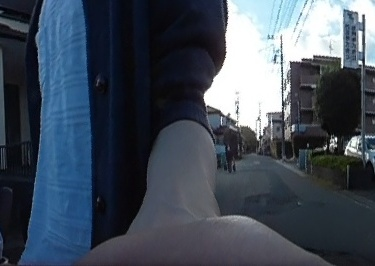person: (225, 142, 234, 172)
